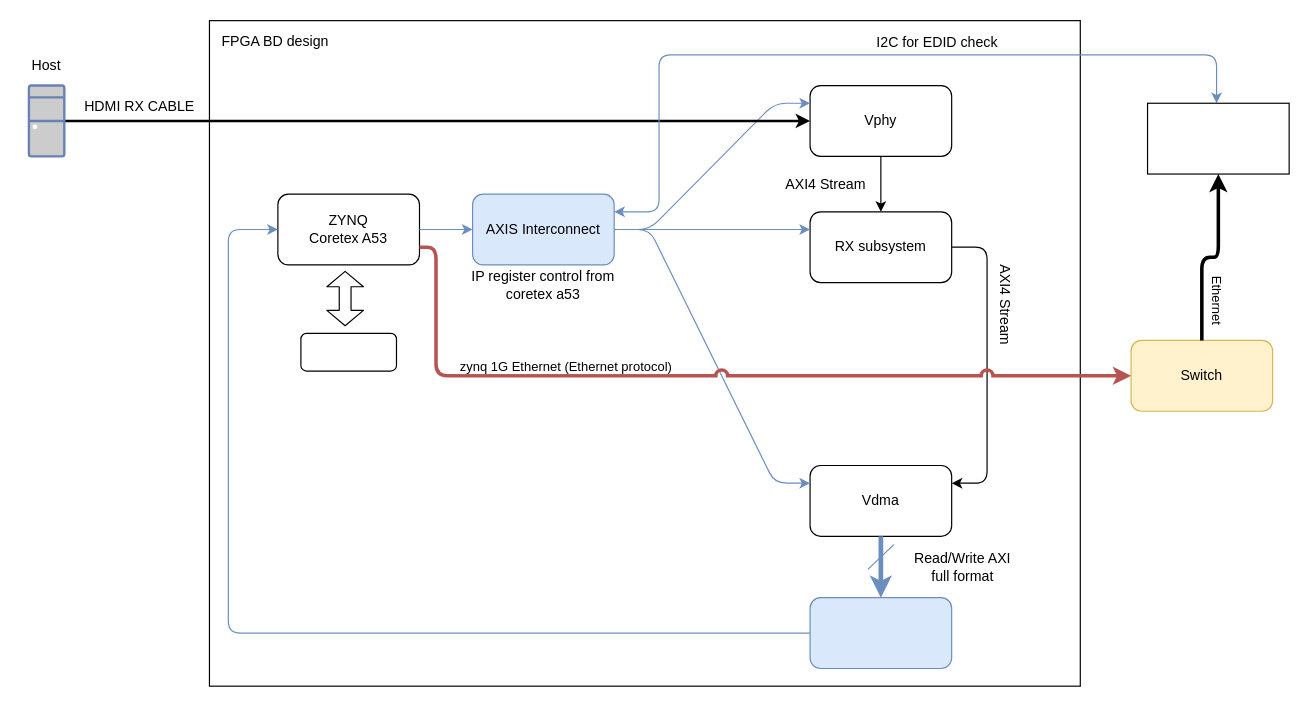
Some shapes in this 1310 by 707 pixel diagram are drawn without their labels. The shapes that lost their labels are listed below. From the top down, each one's centre as x and y in pixels, then its label:
the point at 1217,138: LED pannel
the point at 348,351: DDR
the point at 880,632: AXI Interconnect
